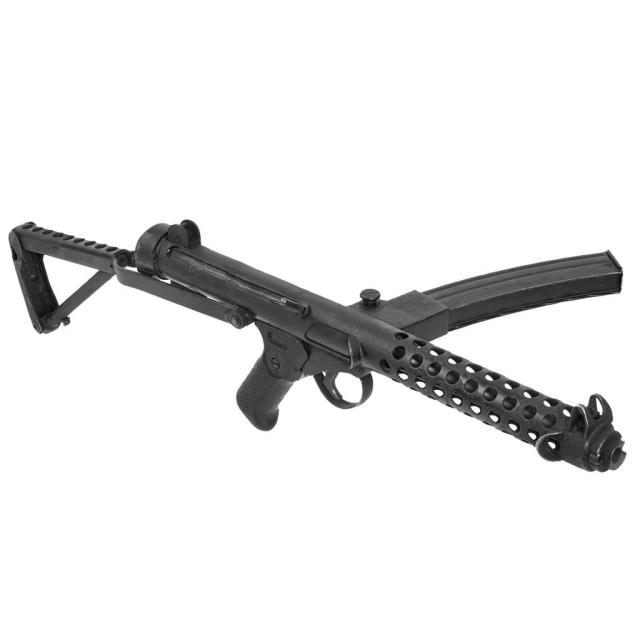Sub-machine-gun: (7, 189, 624, 539)
